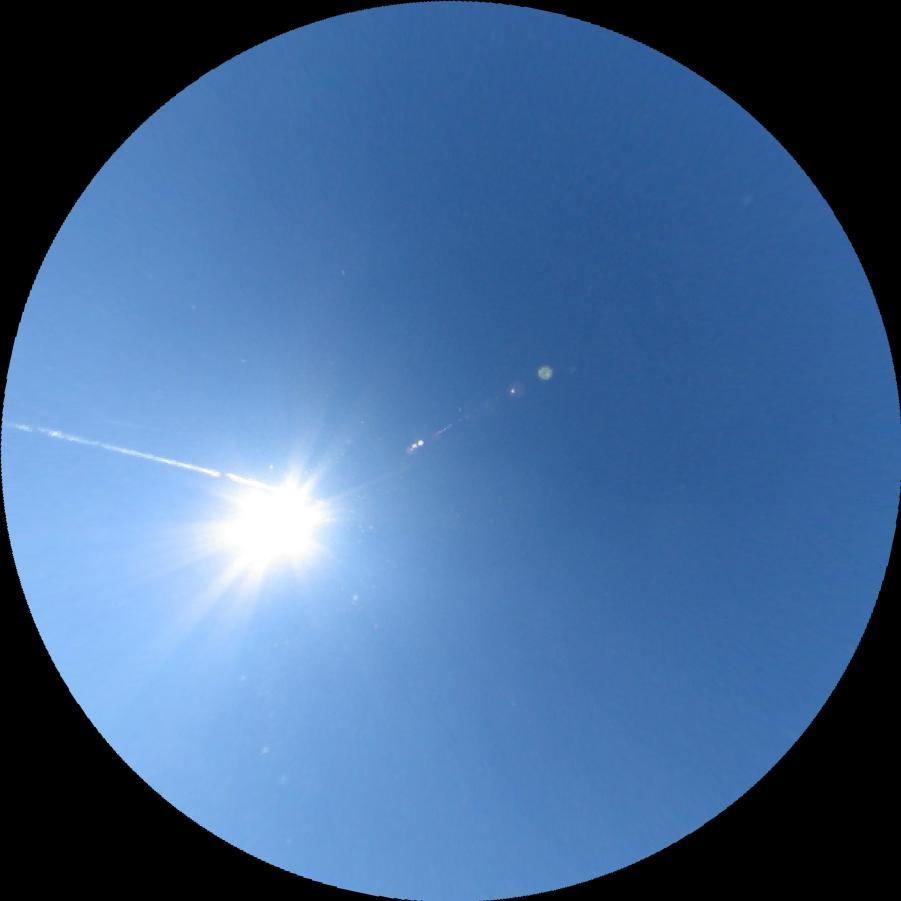contrail young: (659, 481, 689, 493)
parasite: (1, 414, 223, 477), (221, 470, 261, 491)
sun: (204, 458, 337, 582)
